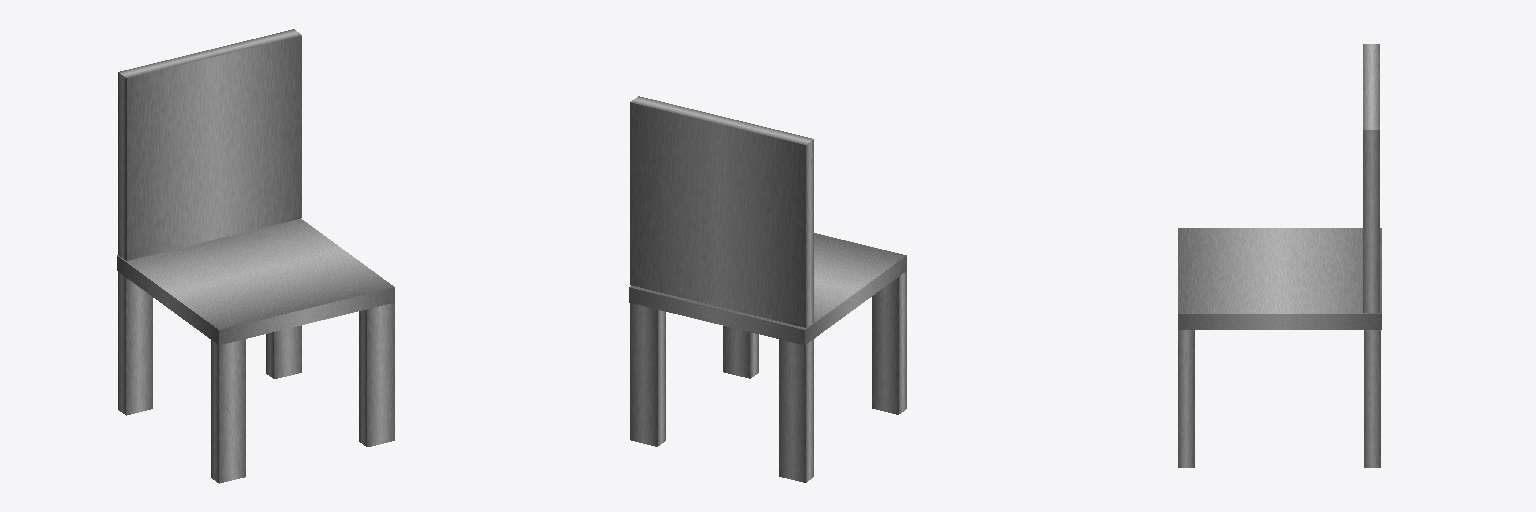
3 renders of one model, left to right at view 1: azimuth 30°, elevation 25°; view 2: azimuth 150°, elevation 25°; view 3: azimuth 270°, elevation 25°, orthographic.
Visible parts, largest first — view 1: Cube.006_Cube.007, Cube.001, Cube_Cube.002, Cube.002_Cube.003, Cube.003_Cube.000, Cube.004_Cube.014; view 2: Cube.006_Cube.007, Cube.001, Cube.004_Cube.014, Cube.003_Cube.000, Cube.002_Cube.003, Cube_Cube.002; view 3: Cube.001, Cube.006_Cube.007, Cube.004_Cube.014, Cube_Cube.002.
Part boxes in pixels (left/top/right/bottom): Cube.006_Cube.007: left=118, top=29, right=301, bottom=260; Cube.001: left=117, top=219, right=394, bottom=344; Cube_Cube.002: left=359, top=303, right=394, bottom=446; Cube.002_Cube.003: left=211, top=339, right=245, bottom=483; Cube.003_Cube.000: left=118, top=272, right=152, bottom=415; Cube.004_Cube.014: left=266, top=325, right=301, bottom=378; Cube.006_Cube.007: left=630, top=96, right=813, bottom=327; Cube.001: left=629, top=233, right=906, bottom=344; Cube.004_Cube.014: left=630, top=303, right=665, bottom=446; Cube.003_Cube.000: left=779, top=339, right=813, bottom=482; Cube.002_Cube.003: left=872, top=271, right=906, bottom=414; Cube_Cube.002: left=723, top=326, right=758, bottom=378; Cube.001: left=1178, top=228, right=1381, bottom=329; Cube.006_Cube.007: left=1363, top=44, right=1379, bottom=312; Cube.004_Cube.014: left=1364, top=330, right=1380, bottom=467; Cube_Cube.002: left=1178, top=330, right=1194, bottom=467.
Size of the model in its own units: 0.6 by 1.1 by 0.6035.
Materials: 1 (1 with a texture image).